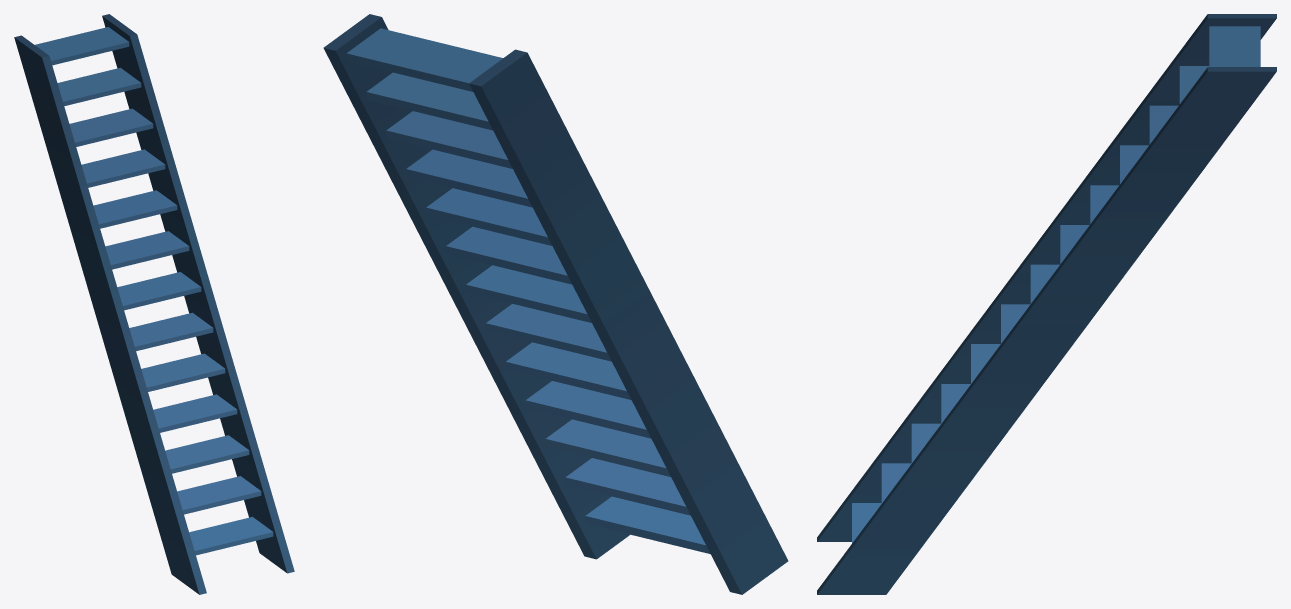
File: FireEscape_D_2.fbx
3 renders of one model, left to right at view 1: azimuth 30°, elevation 25°; view 2: azimuth 150°, elevation 25°; view 3: azimuth 270°, elevation 25°, orthographic. The views are drawn at different scales.
Visible parts, largest first — view 1: FireEscape_D_2; view 2: FireEscape_D_2; view 3: FireEscape_D_2.
Part boxes in pixels (box(x1,y1,x2,y2)): FireEscape_D_2: box(14, 14, 294, 594); FireEscape_D_2: box(323, 14, 788, 594); FireEscape_D_2: box(817, 14, 1276, 594).
Bounding box in the file's own units: 76.75 × 325 × 259.
